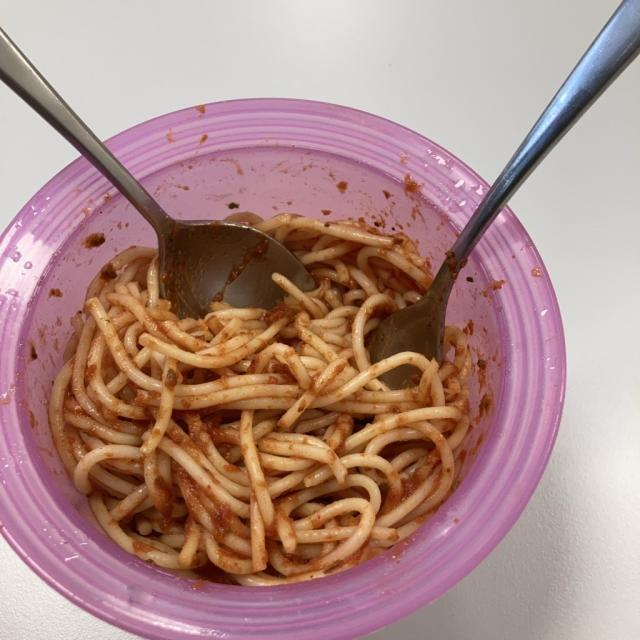pasta: (55, 219, 478, 579)
